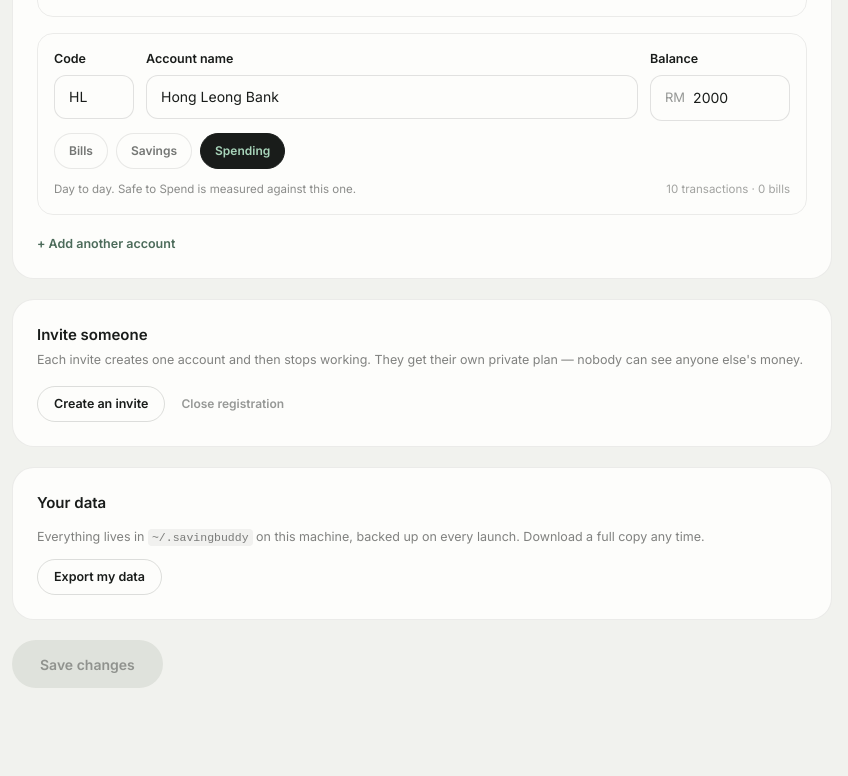
Test: Settings › shows a new invite once, with a warning that it will not be shown again
(page scrolled)
Click the button "Create an invite".
click(101, 404)  # box [37,386,165,422]
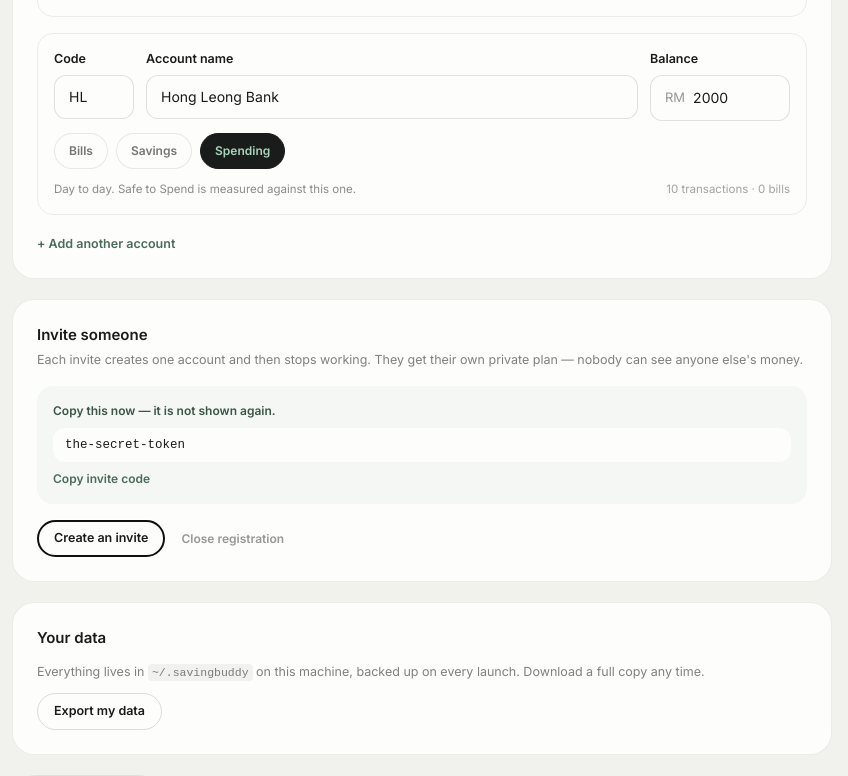
Now the text "the-secret-token" is shown, box [53,428,791,462]
Now the text "Copy this now — it is not shown again." is shown, box [53,403,276,418]
